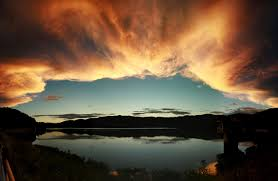lake: (35, 129, 252, 174)
mountain: (69, 110, 278, 136)
sky: (1, 2, 277, 110)
